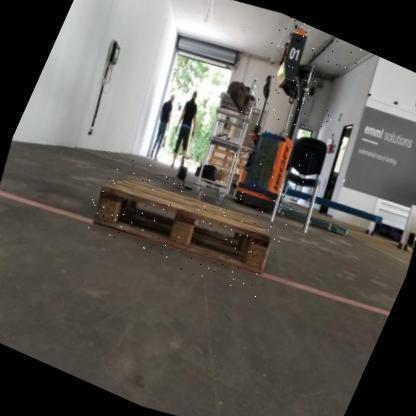pallet: (90, 172, 272, 278)
